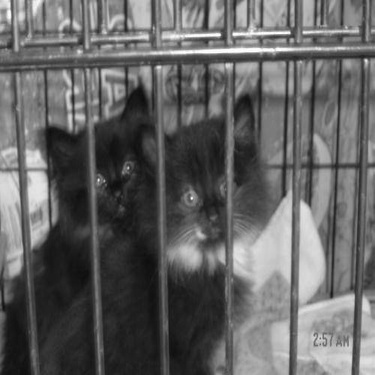cat: (44, 93, 262, 373), (7, 72, 149, 372)
